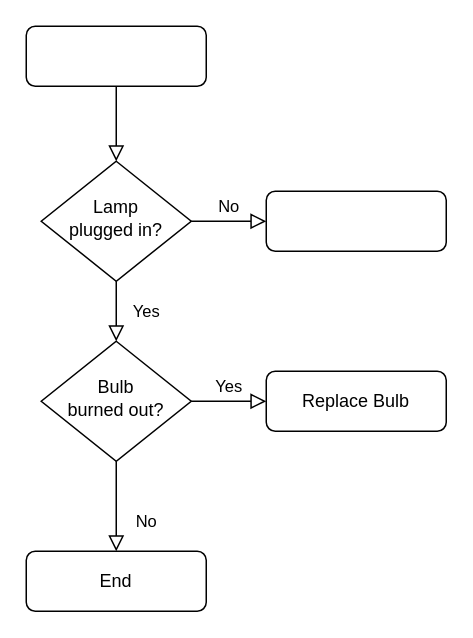
This 473x638 diagram has some shape labels left out. The shapes that lost their labels are listed below. From the top down, each one's centre as x and y in pixels, then its label:
At [115,55]: "Start".
At [355,220]: "Plug in lamp".
